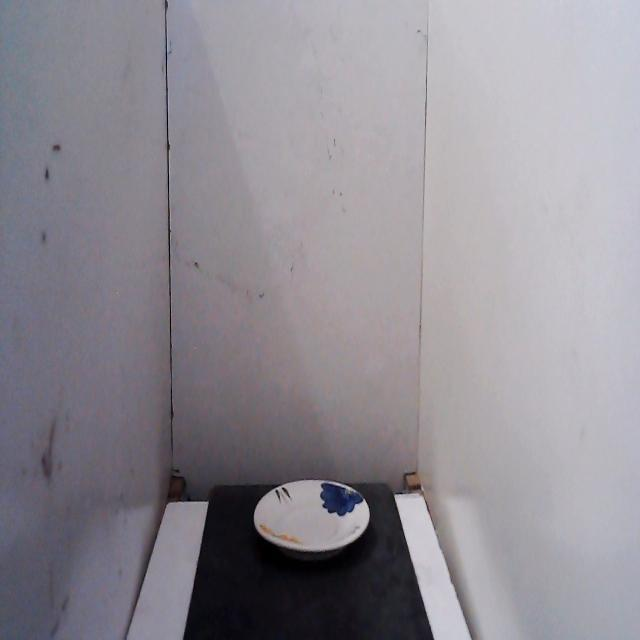vidro: (250, 464, 373, 569)
